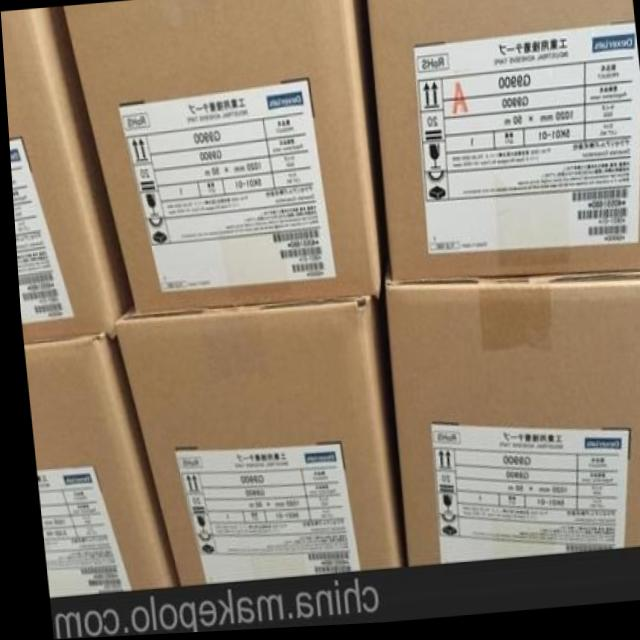box: (62, 0, 386, 313), (110, 283, 400, 587), (379, 261, 640, 570), (366, 0, 640, 284), (1, 7, 128, 346), (20, 333, 171, 596)
